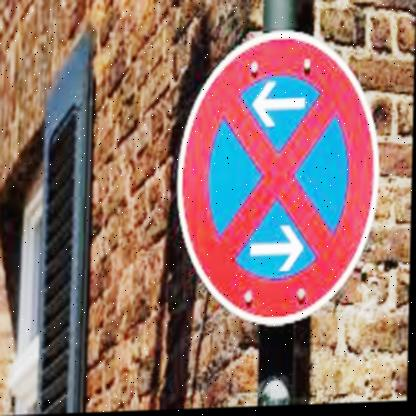No stopping: (177, 21, 380, 331)
